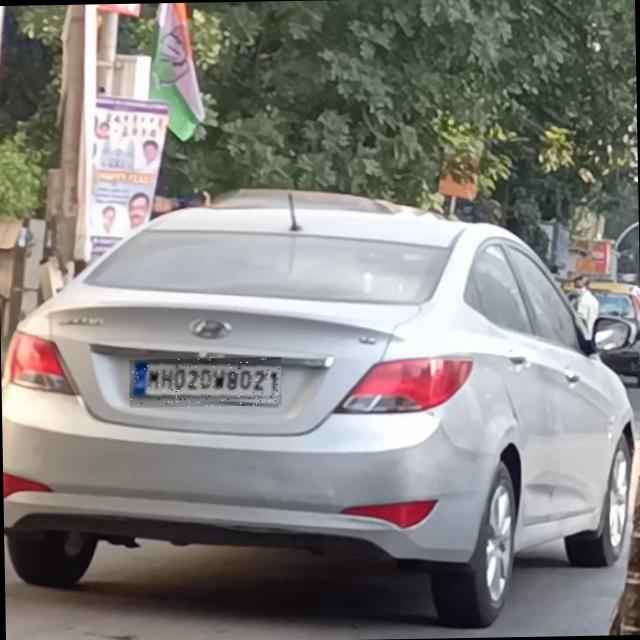Plate: (130, 358, 283, 409)
